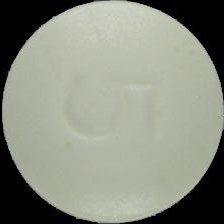64205-126: (0, 0, 224, 224)
